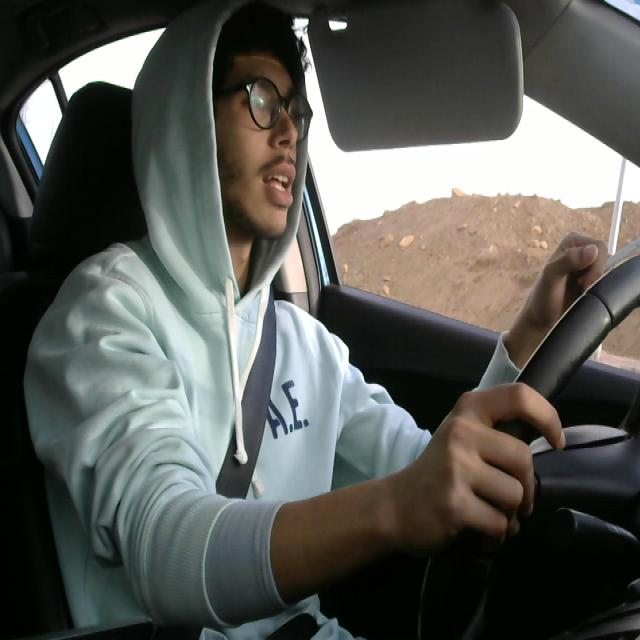smoking: (579, 239, 640, 300)
